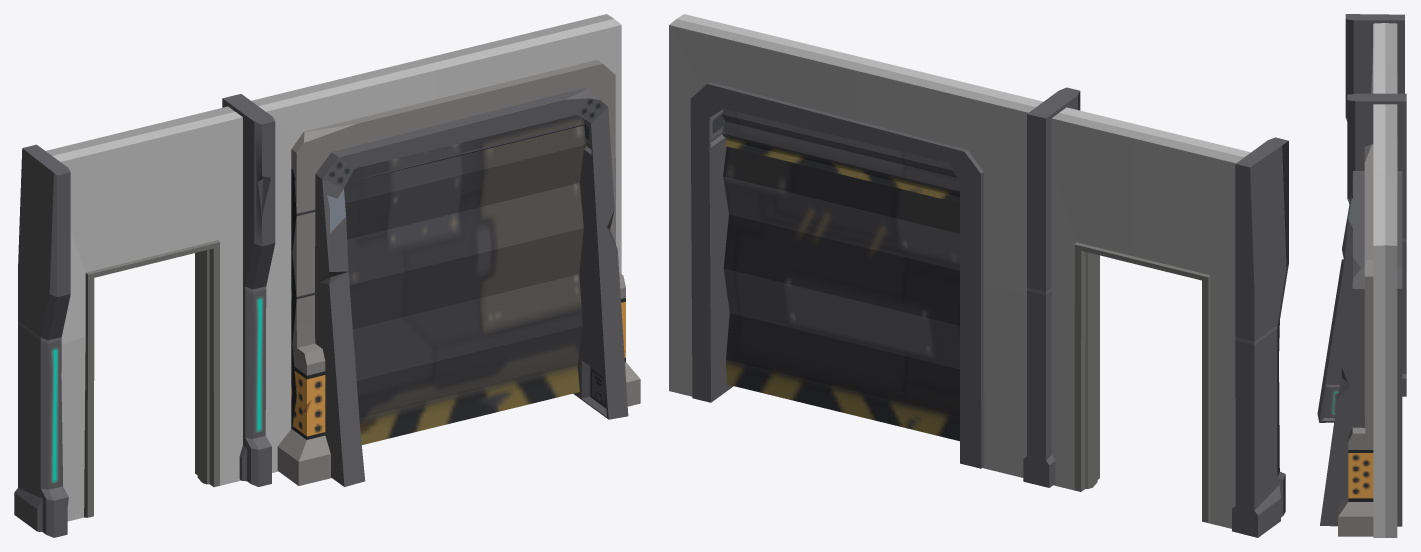
The model's file is SM_Bld_Wall_Shop_02.fbx.
3 renders of one model, left to right at view 1: azimuth 30°, elevation 25°; view 2: azimuth 150°, elevation 25°; view 3: azimuth 270°, elevation 25°, orthographic. The views are drawn at different scales.
Parts seen in each view (by area): view 1: SM_Bld_Wall_Shop_02, SM_Bld_Wall_Shop_02_Shutter_Closed, SM_Bld_Wall_Shop_02_Shutter_Open; view 2: SM_Bld_Wall_Shop_02, SM_Bld_Wall_Shop_02_Shutter_Closed, SM_Bld_Wall_Shop_02_Shutter_Open; view 3: SM_Bld_Wall_Shop_02.
Part boxes in pixels (left/top/right/bottom): SM_Bld_Wall_Shop_02: left=14, top=14, right=640, bottom=537; SM_Bld_Wall_Shop_02_Shutter_Closed: left=291, top=115, right=585, bottom=444; SM_Bld_Wall_Shop_02_Shutter_Open: left=291, top=123, right=584, bottom=225; SM_Bld_Wall_Shop_02: left=669, top=14, right=1288, bottom=537; SM_Bld_Wall_Shop_02_Shutter_Closed: left=723, top=146, right=959, bottom=441; SM_Bld_Wall_Shop_02_Shutter_Open: left=722, top=109, right=959, bottom=203; SM_Bld_Wall_Shop_02: left=1317, top=14, right=1406, bottom=537.
Bounding box in the file's own units: 511 × 305 × 83.21.
